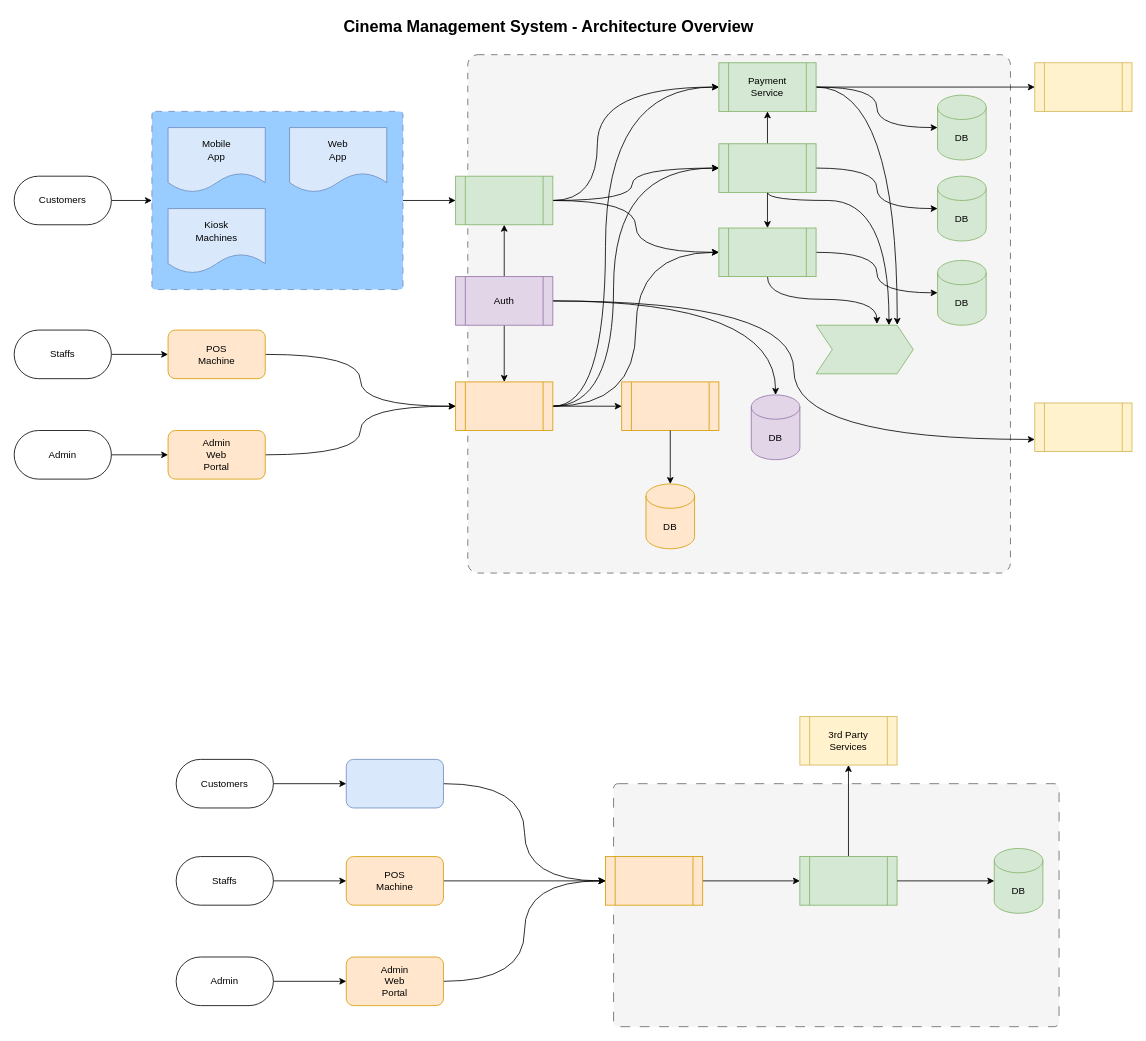
Image size: 1146x1041. Some labels were removed from this diagram. The centre of each missing label's shape, as x and y in pixels:
3rd Party Auth Services: [1083,427]
3rd Party Payment Services: [1083,86]
Async Queue: [864,349]
Cinema Service: [767,252]
Gateway: [654,880]
Internal Gateway: [504,406]
Mobile Apps: [394,783]
Public Gateway: [504,200]
Reporting Service: [670,406]
Server: [848,880]
Ticket Service: [767,167]
